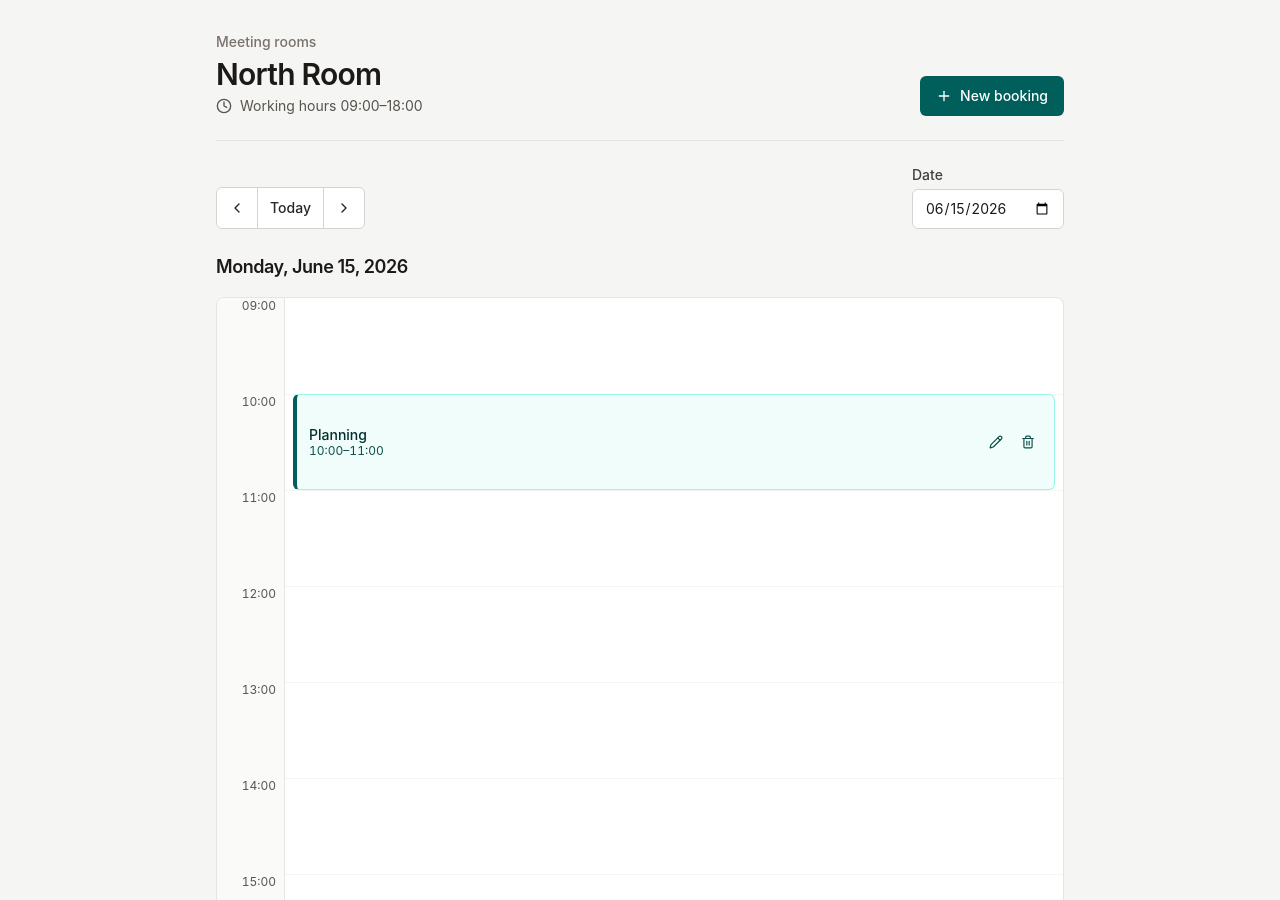
Test case: booking form › moves a booking to another date and refreshes both days
The width and height of the screenshot is (1280, 900).
Expected: the text "Planning" is shown, [309,426,367,443]
Click the button named "Edit Planning, 10:00–11:00": point(996, 442) [982,428,1010,456]
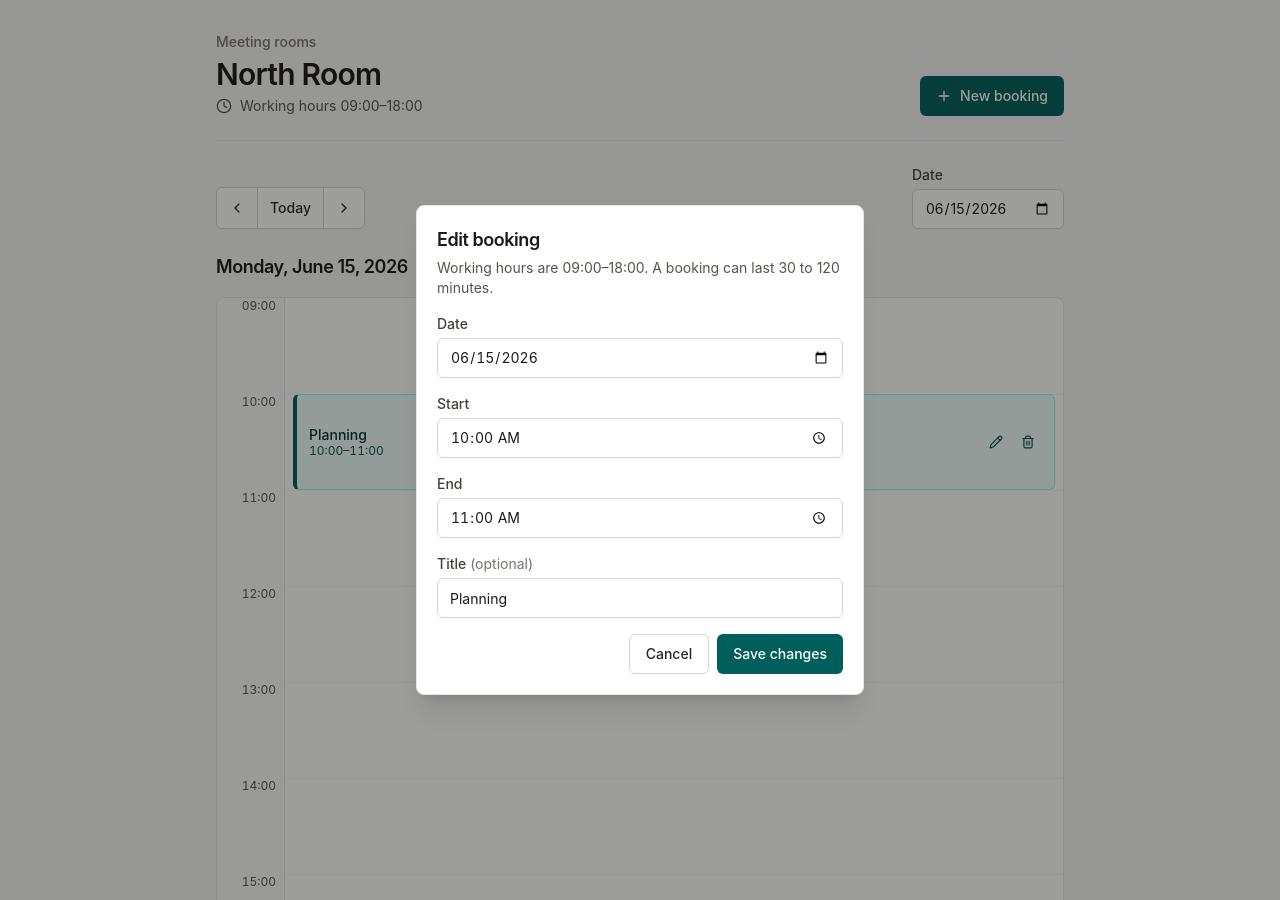
In the date field labelled "Date": point(640, 358) [437,338,843,378], type "2026-06-16"
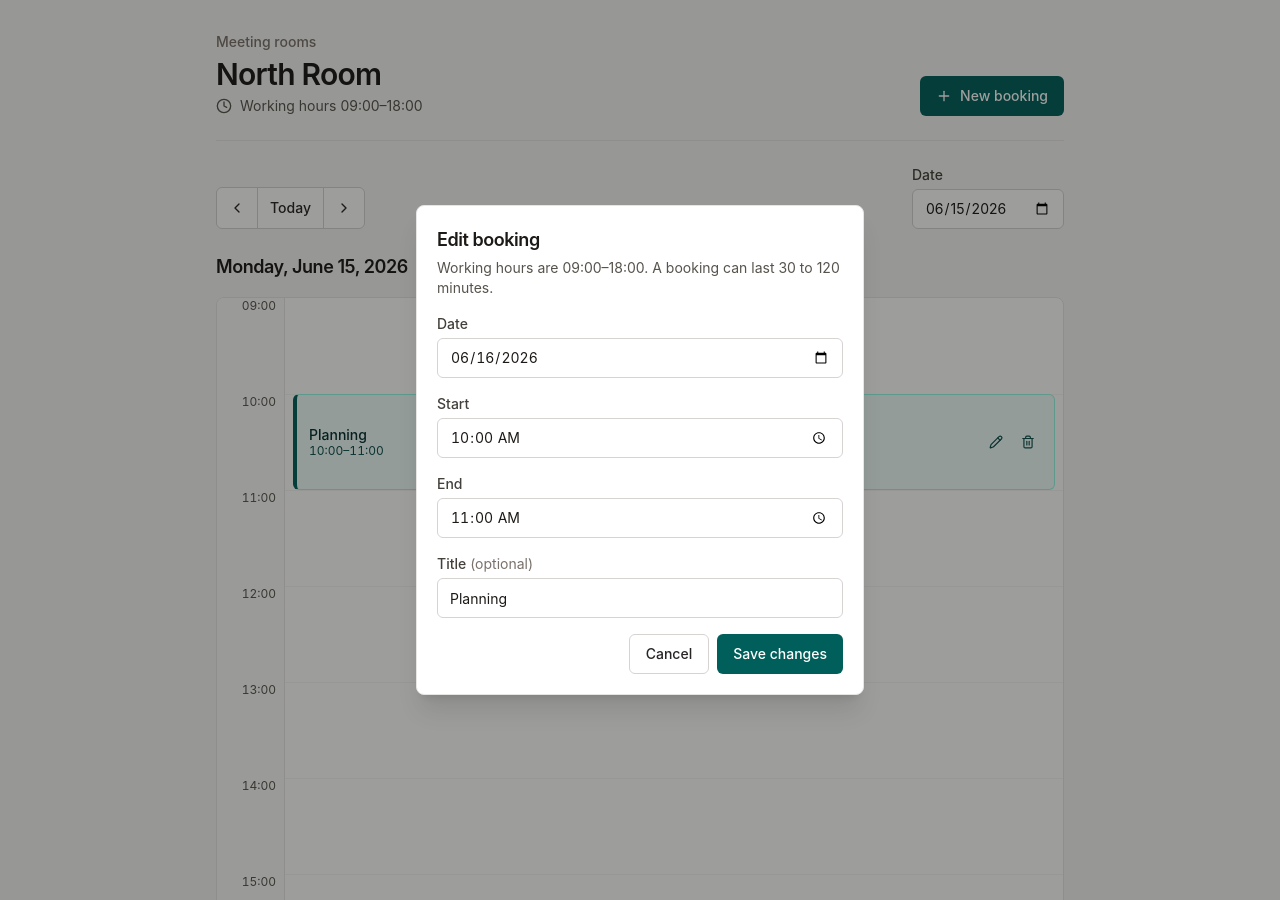
Click the button "Save changes": point(780, 654) [717,634,843,674]
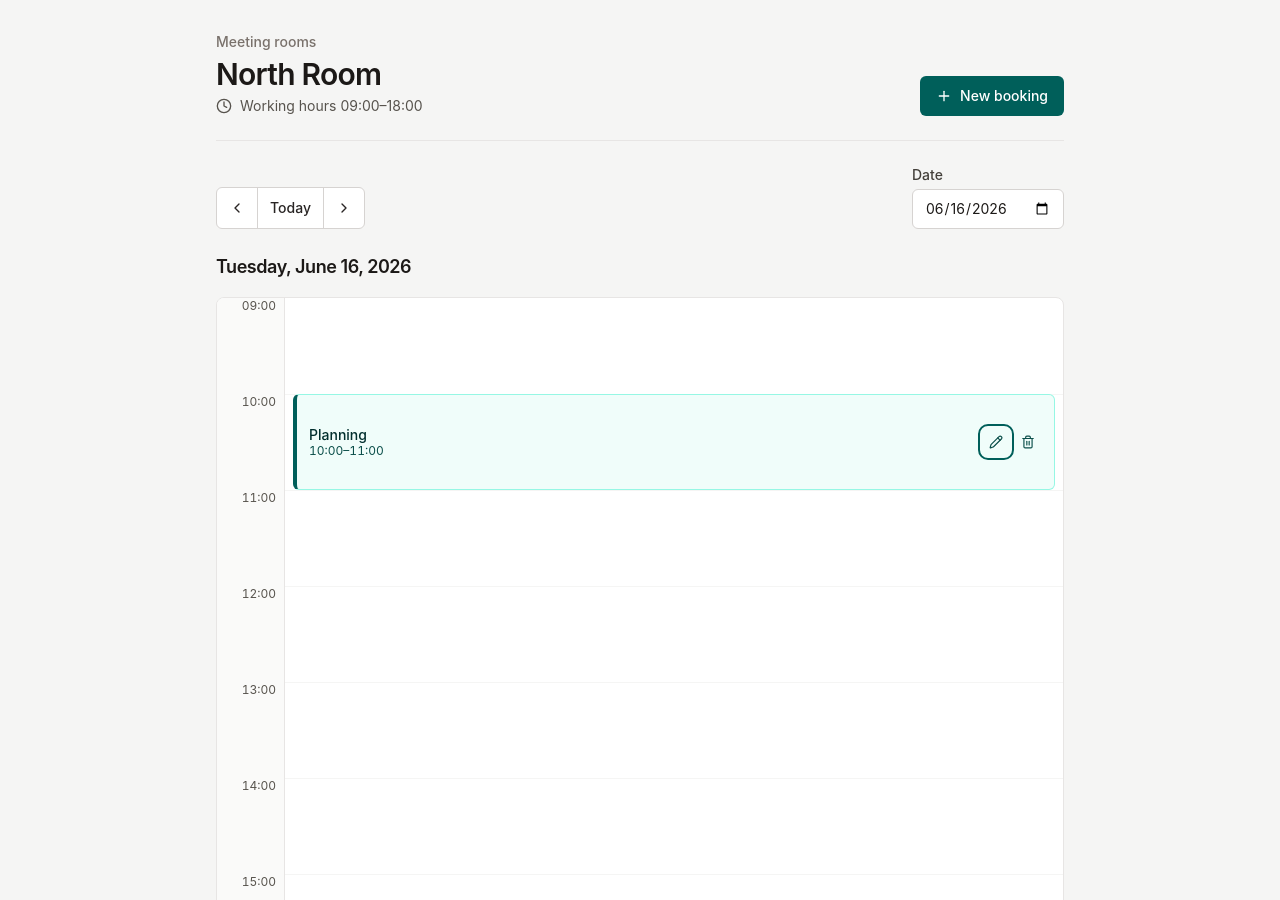
Expected: the text "Planning" is shown, [309,426,367,443]
Result: the dialog is gone
Result: the date field labelled "Date" holds "2026-06-16" at [912,189,1064,229]
Click the button named "Previous day": point(237, 208) [217,188,257,228]
(page scrolled)
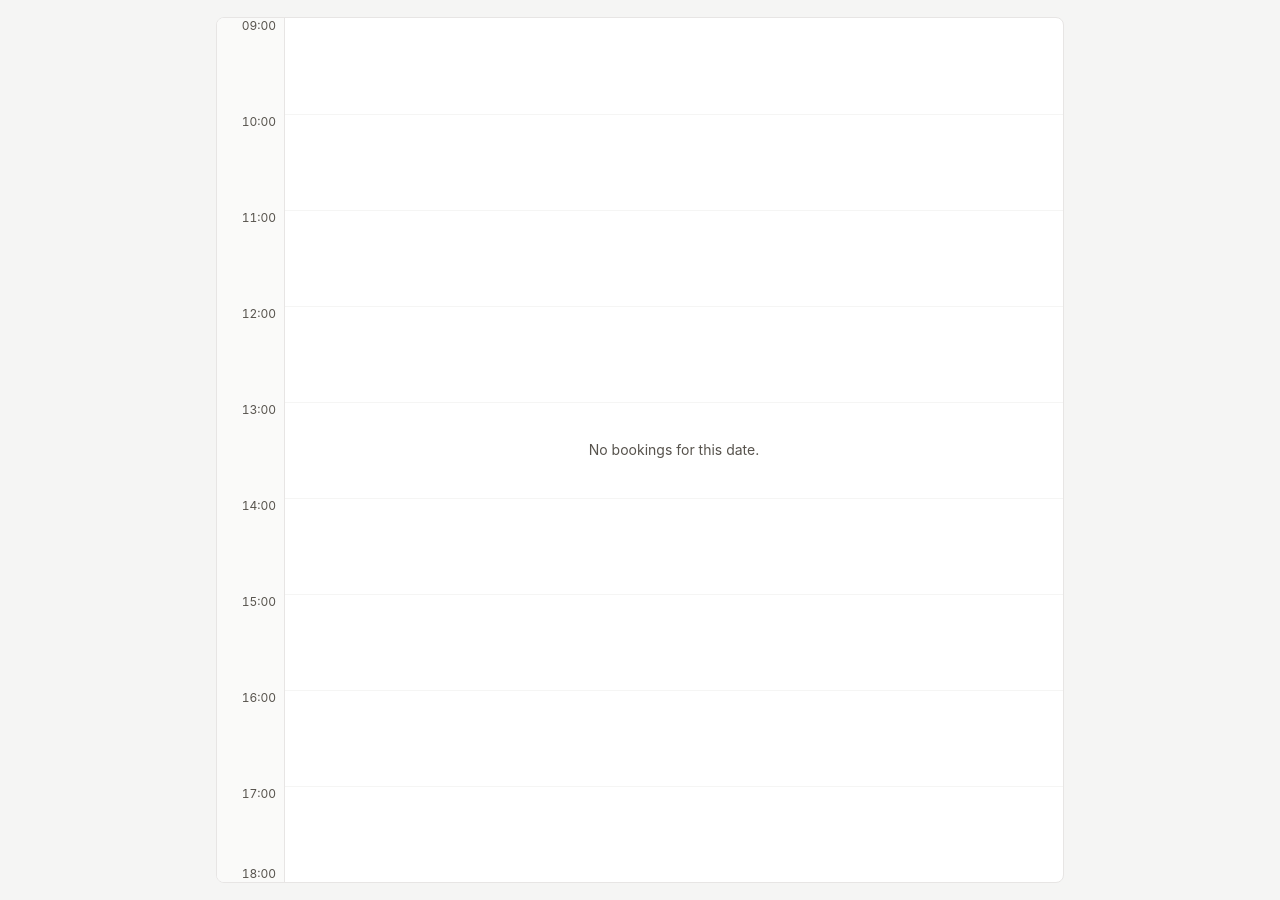
Result: the text "No bookings for this date." is shown at [589,441,759,458]
